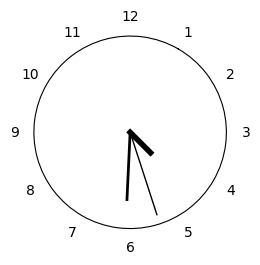12: (122, 9, 139, 22)
circle: (34, 36, 226, 228)
hours: (127, 128, 153, 156)
minutes: (125, 137, 132, 201)
seconds: (133, 142, 157, 216)
